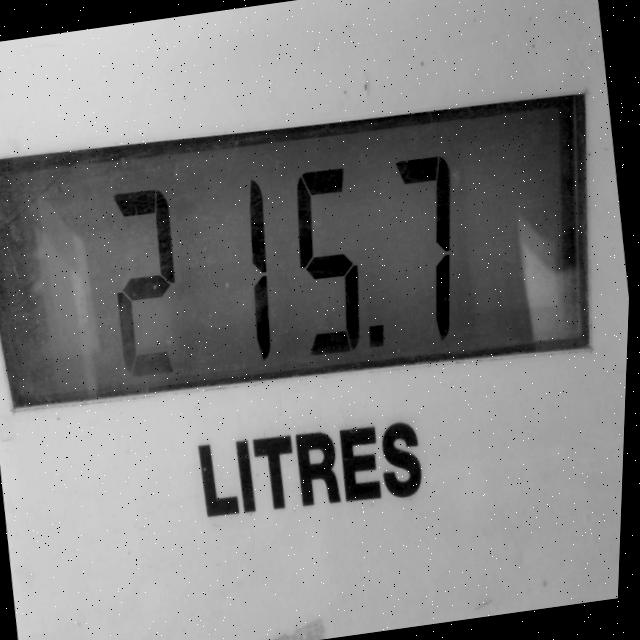.: (356, 306, 398, 356)
1: (198, 155, 298, 377)
2: (96, 174, 216, 384)
5: (276, 154, 385, 370)
7: (372, 138, 485, 366)
